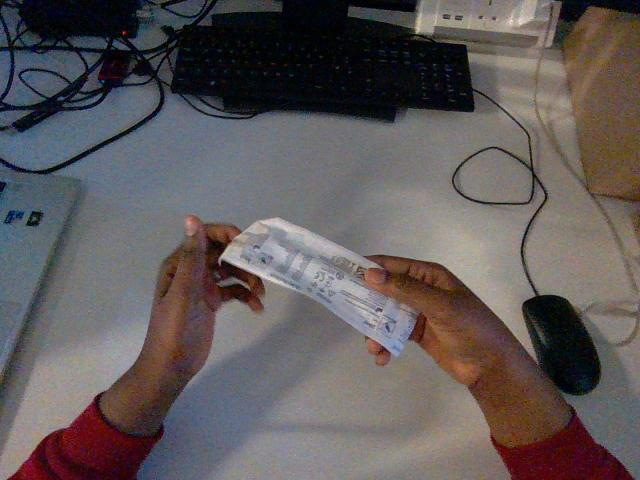syringe: (220, 218, 417, 355)
